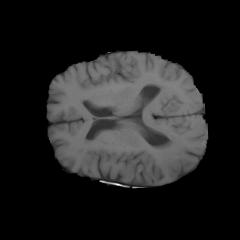glioma: (158, 138, 184, 168)
